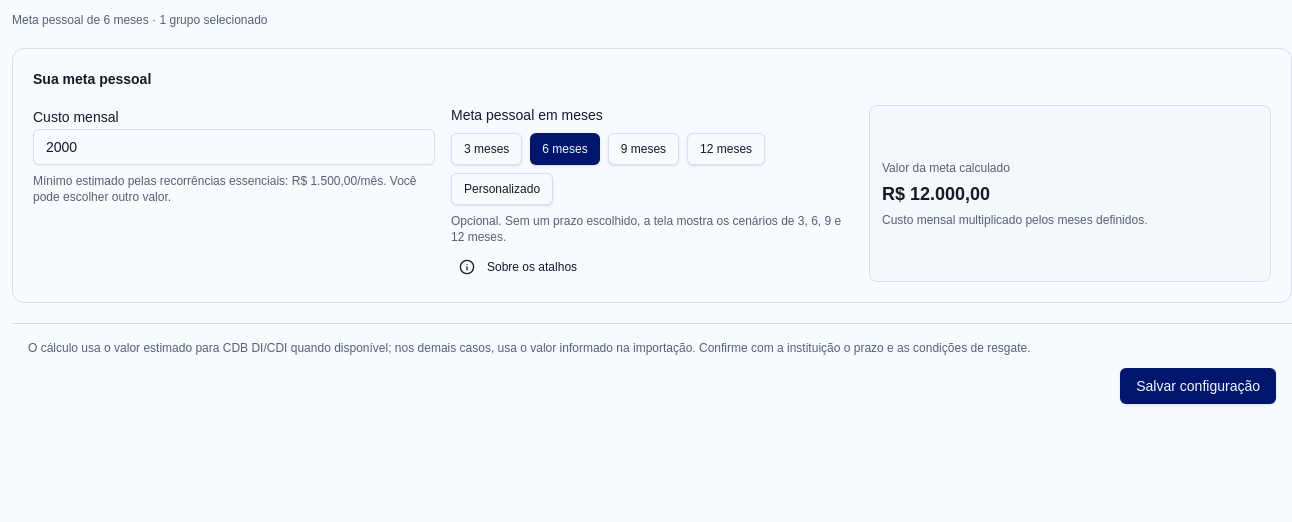
Scenario: EmergencyReserveEditor › enforces the same upper bound as the API for the month target
The width and height of the screenshot is (1292, 522).
Expected: the number field labelled "Custo mensal" is shown, [33,129,435,165]
Click the button "Personalizado": (502, 189) [451,173,553,205]
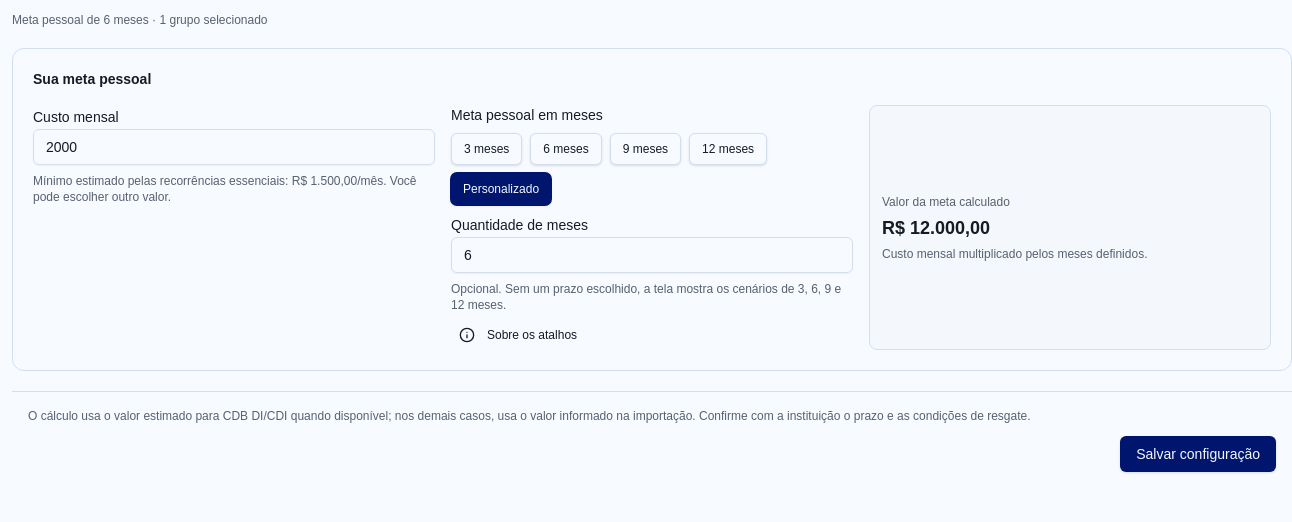
Replace the text in the number field labelled "Quantidade de meses" with "1201": (652, 255) [451,237,853,273]
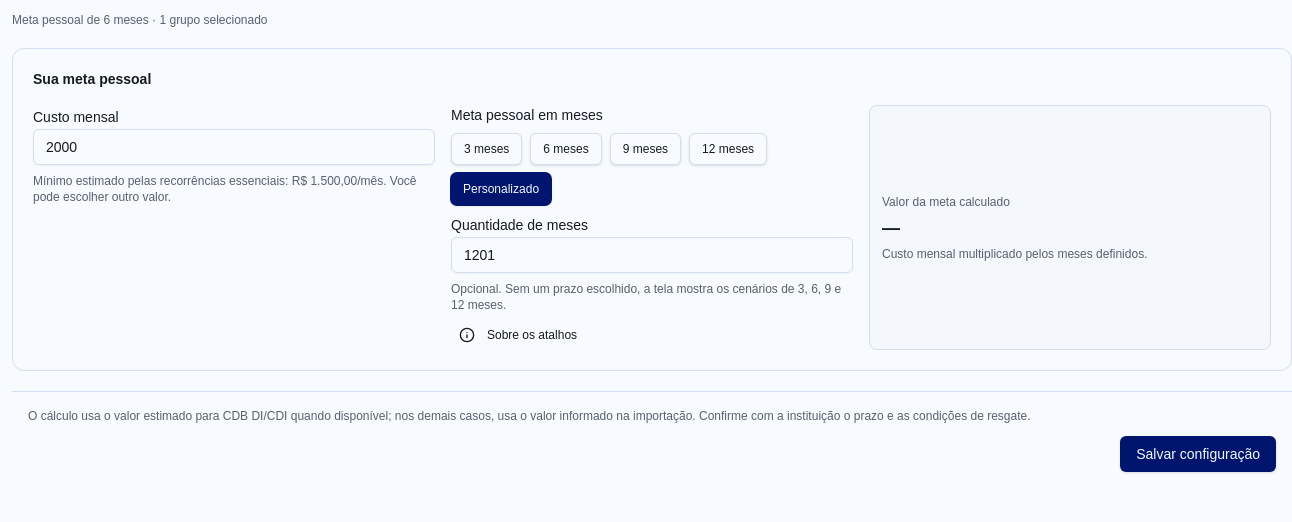
Submit the form named "Salvar configuração"
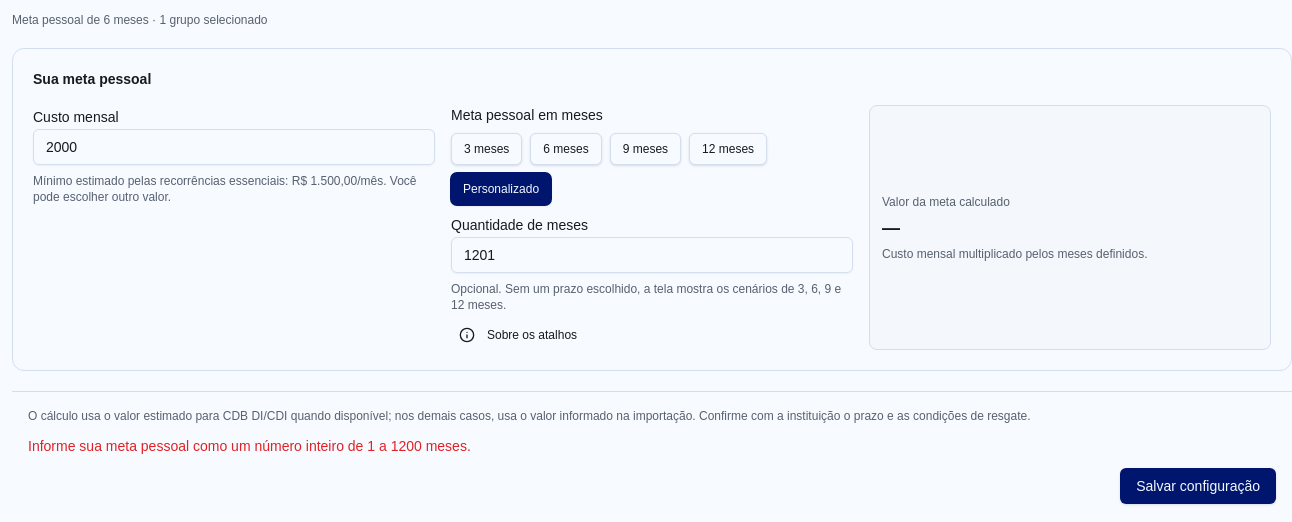
Expected: the message "Informe sua meta pessoal como um número inteiro de 1 a 1200 meses." is shown, [28,438,471,454]
